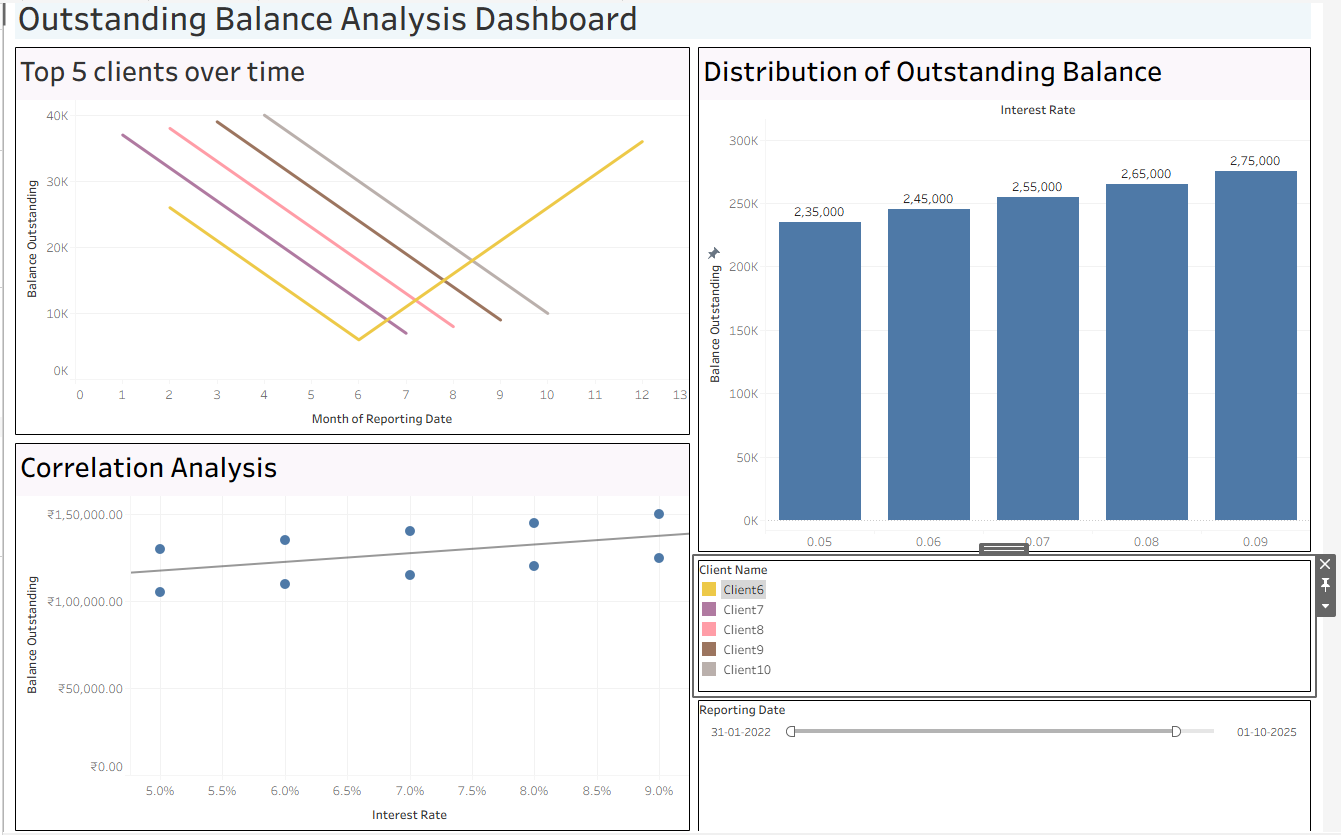

The page's visual inventory and layout, read from the dashboard file:
{"tool":"tableau","page":{"name":"Dashboard 1","canvas":[1320,860],"ordinal":0},"visuals":[{"type":"title","box":[8,8,1304,52]},{"type":"worksheet","title":"Top 5 Clients","mark":"Line","rows":["Balance Outstanding"],"cols":["Reporting Date"],"box":[8,60,754,397]},{"type":"filter","title":"Top 5 Clients","param":"[federated.1l4osm70ud6w1u1aduj8815ize4a].[none:Reporting Date:qk]","box":[762,60,550,76]},{"type":"legend","title":"Top 5 Clients","param":"[federated.1l4osm70ud6w1u1aduj8815ize4a].[none:Client Name:nk]","box":[762,136,550,264]},{"type":"worksheet","title":"Distribution of Outstanding Balance","mark":"Automatic","rows":["Balance Outstanding"],"cols":["Interest Rate"],"box":[762,400,550,452]},{"type":"worksheet","title":"corelation","mark":"Circle","rows":["Balance Outstanding"],"cols":["Interest Rate"],"box":[8,457,754,395]}]}

Visuals, with their boxes on the page's 1320x860 design canvas (x1, y1, x2, y2). These are canvas units, not pixel positions in the 1341x835 screenshot, which may show the page scaled, cropped or inside an application window:
title: x1=8 y1=8 x2=1312 y2=60
"Top 5 Clients" worksheet (Line marks): x1=8 y1=60 x2=762 y2=457
"Top 5 Clients" filter: x1=762 y1=60 x2=1312 y2=136
"Top 5 Clients" legend: x1=762 y1=136 x2=1312 y2=400
"Distribution of Outstanding Balance" worksheet: x1=762 y1=400 x2=1312 y2=852
"corelation" worksheet (Circle marks): x1=8 y1=457 x2=762 y2=852
